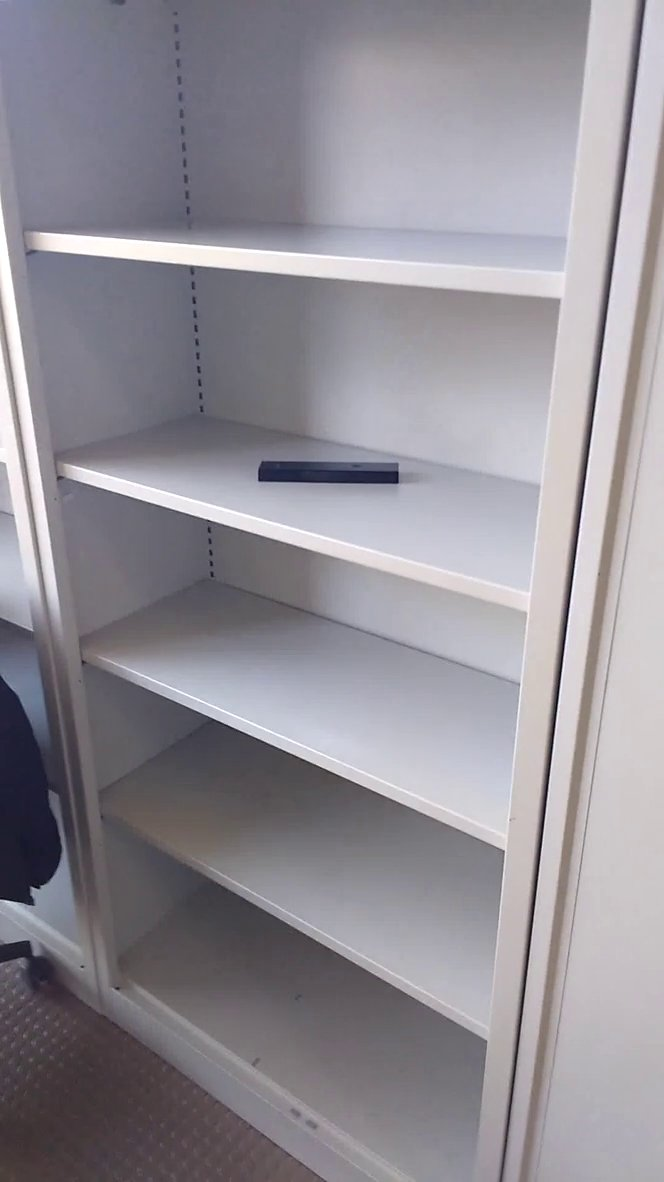remote: (243, 451, 408, 500)
